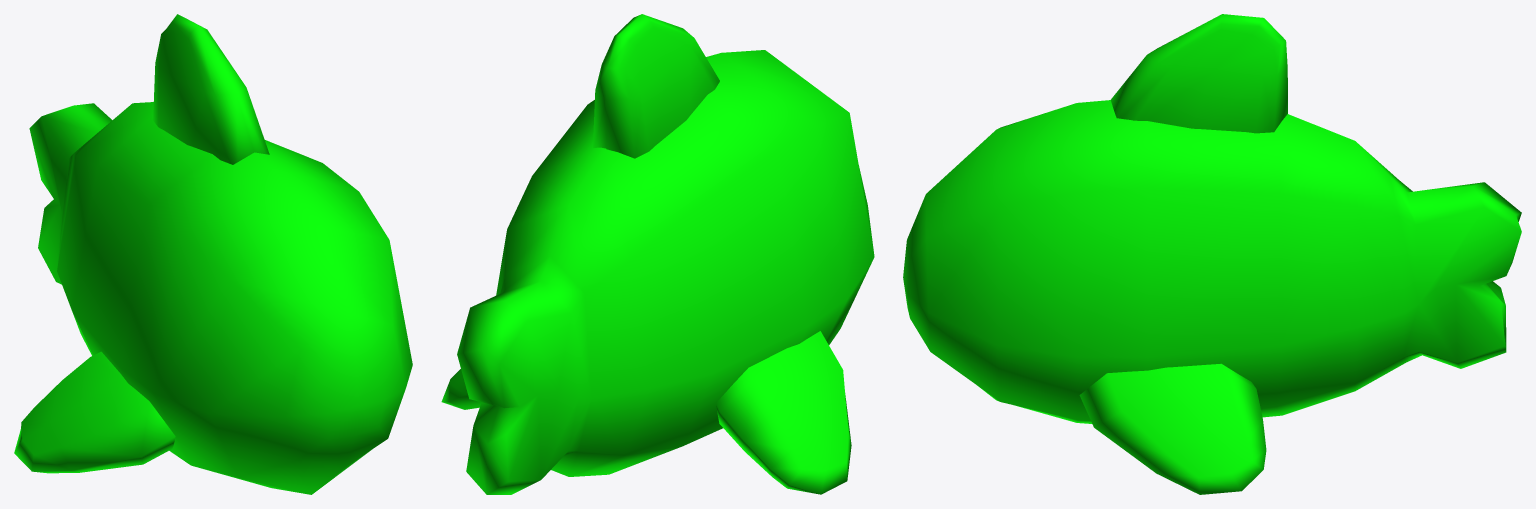
File: Fish_2.fbx
The picture shows the model from 3 angles, left to right: view 1: azimuth 30°, elevation 25°; view 2: azimuth 150°, elevation 25°; view 3: azimuth 270°, elevation 25°; orthographic projection. The views are drawn at different scales.
Visible parts, largest first — view 1: Fish_2; view 2: Fish_2; view 3: Fish_2.
Part boxes in pixels (box(x1,y1,x2,y2)): Fish_2: box(14, 14, 412, 494); Fish_2: box(441, 14, 874, 494); Fish_2: box(903, 14, 1521, 494).
Size of the model in its own units: 224 by 249 by 338.
